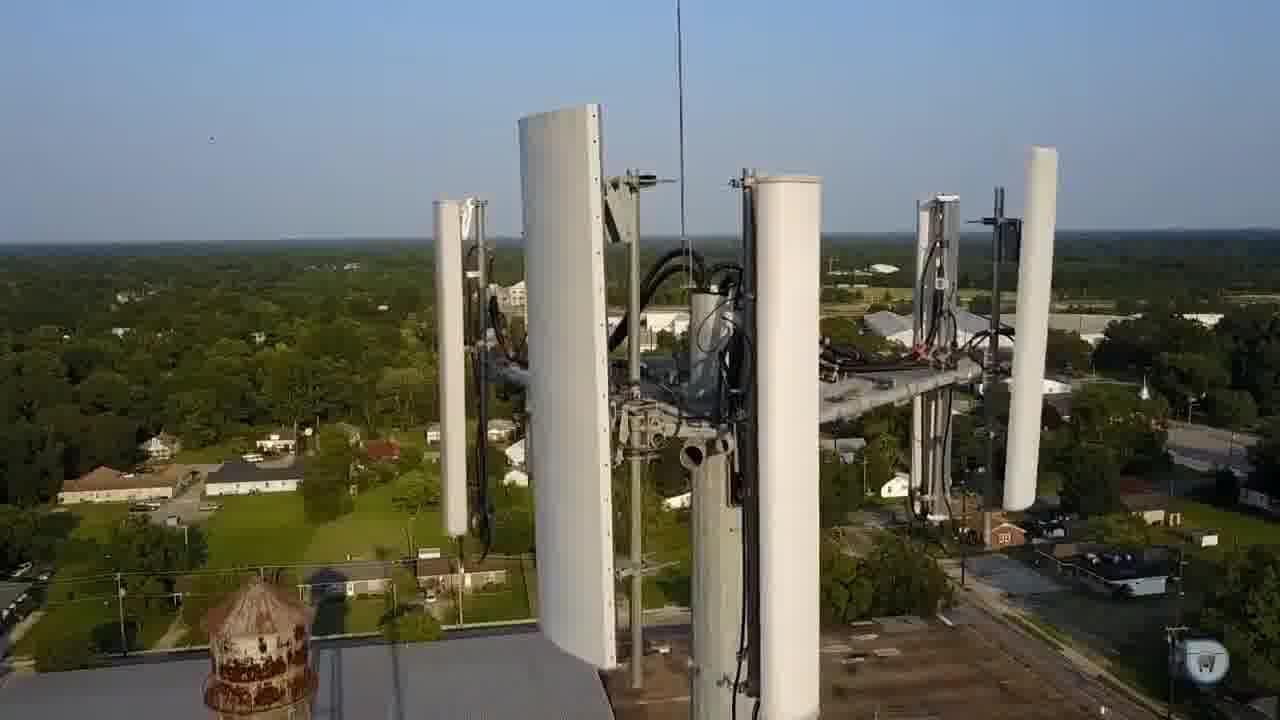antenna: (509, 95, 638, 682), (745, 153, 843, 720), (993, 130, 1076, 525), (905, 181, 959, 523), (431, 193, 480, 549)
